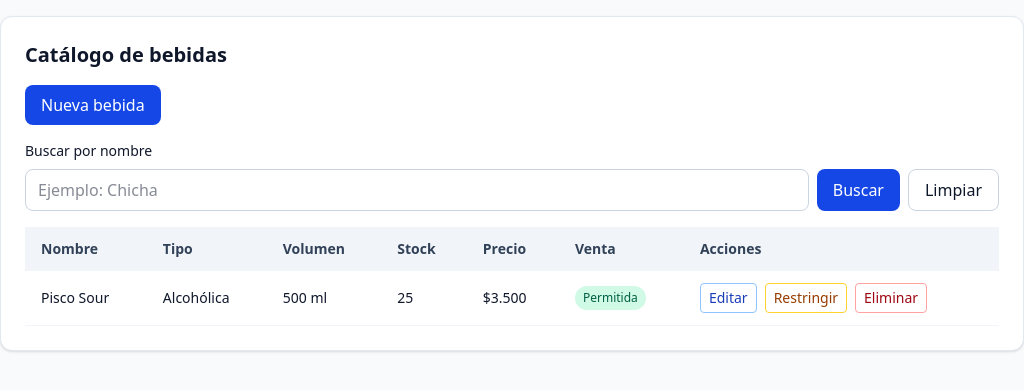
Test: Acciones del catálogo › confirma la acción y refresca el catálogo, eliminar=true
Expected: the text "Pisco Sour" is shown, [25, 271, 147, 326]
Click the button "Eliminar": {"x": 891, "y": 298} [855, 283, 927, 313]
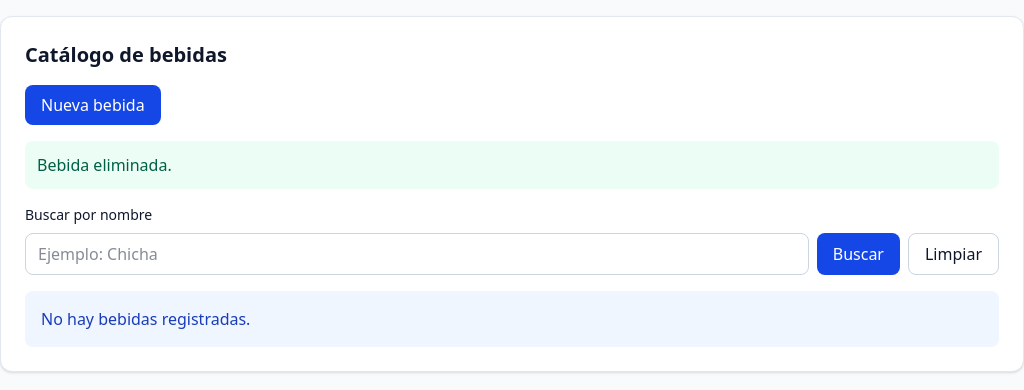
Expected: the text "Bebida eliminada." is shown, [25, 141, 999, 189]
Expected: the text "No hay bebidas registradas." is shown, [25, 291, 999, 347]
